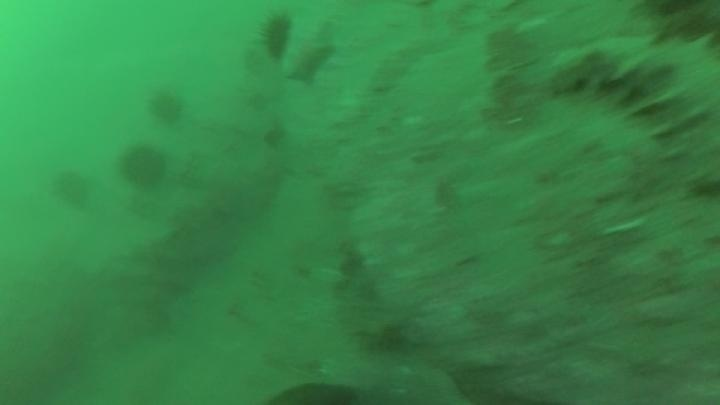echinus: (116, 142, 169, 191), (255, 10, 296, 64), (50, 167, 94, 211), (145, 86, 188, 128)
holothurian: (547, 31, 719, 144)
starfish: (280, 23, 339, 88)
